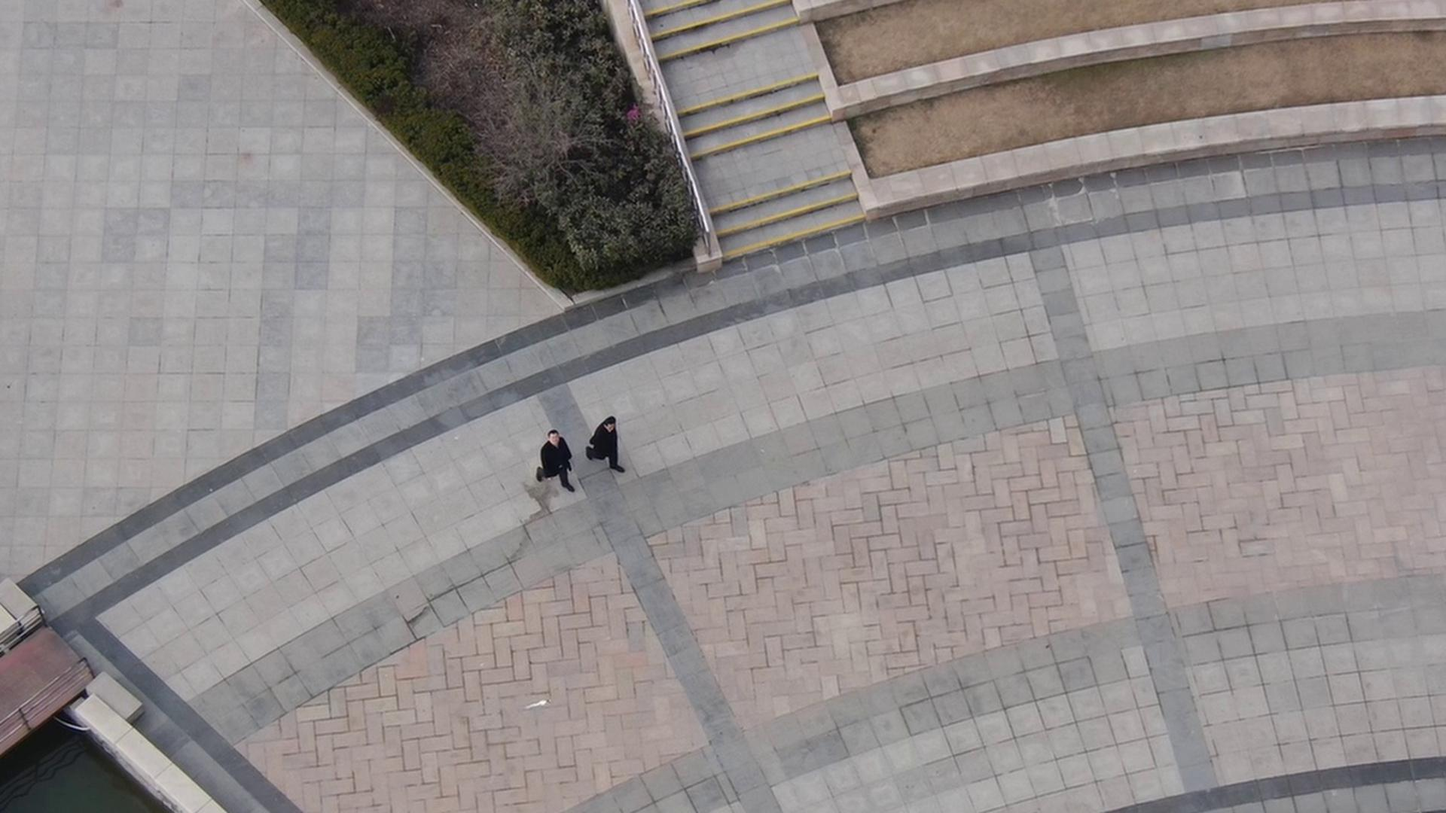human: (533, 420, 580, 495), (587, 406, 636, 476)
